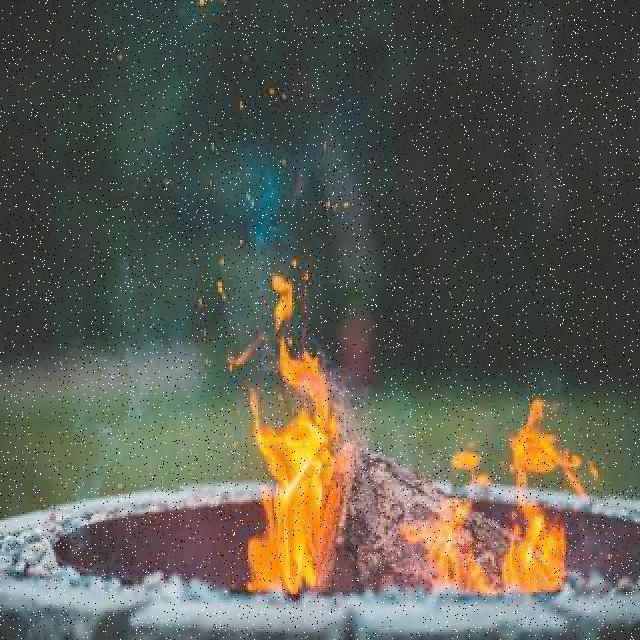fire: (248, 292, 338, 594), (434, 418, 581, 584)
